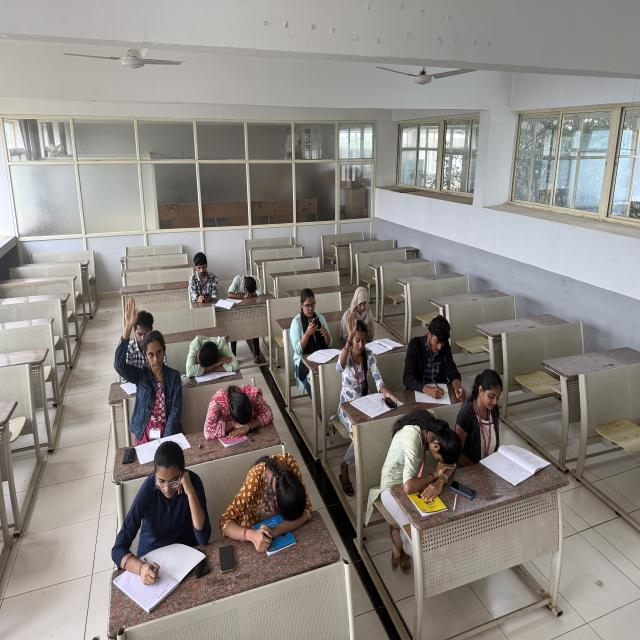Hand Rising: (107, 292, 182, 433), (334, 308, 387, 404)
Reading: (458, 362, 539, 492)
Sleeping: (212, 448, 318, 554), (385, 402, 464, 521), (198, 375, 278, 448), (183, 325, 247, 388), (223, 264, 273, 314)
Using Phone: (288, 286, 336, 359), (340, 283, 382, 345), (186, 250, 223, 308)
Writing: (106, 436, 218, 601), (402, 308, 468, 409)
